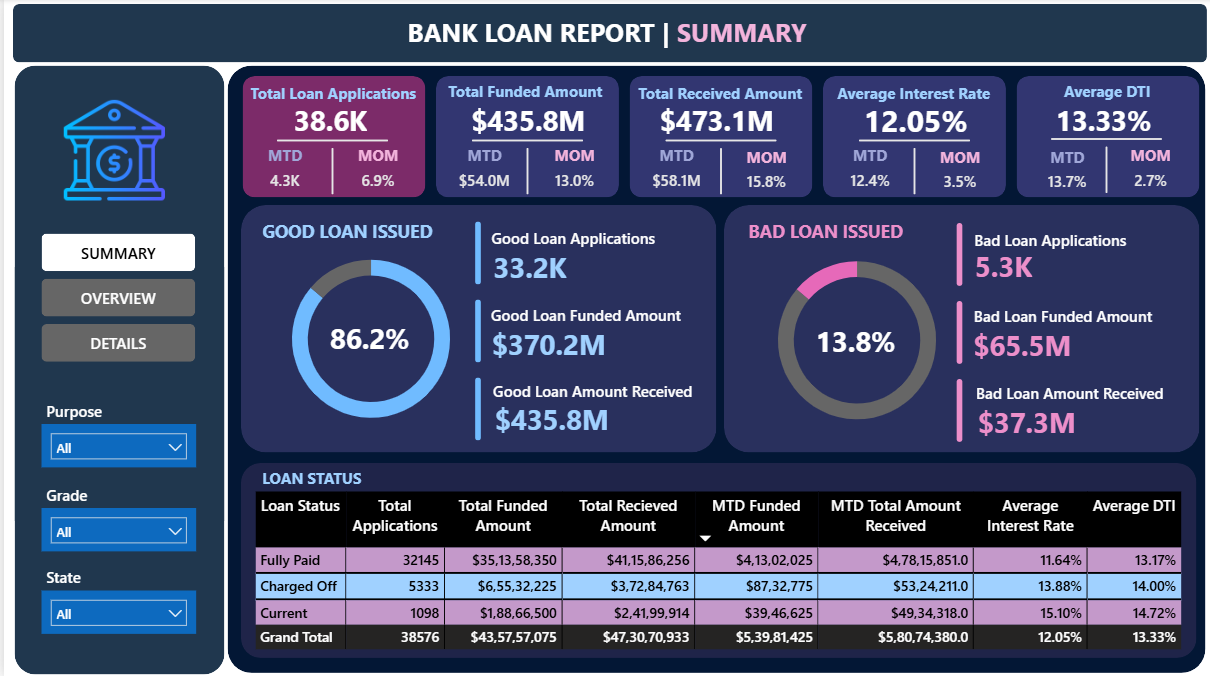

What the dashboard file says about the page in this screenshot:
{"tool":"powerbi","page":{"name":"SUMMARY","canvas":[1280,720],"ordinal":0},"visuals":[{"type":"shape","box":[1110.2,0,117.7,299],"z":0,"group":"g6"},{"type":"shape","box":[289.5,1.6,117.7,299],"z":0,"group":"g2"},{"type":"shape","box":[496.3,1.6,117.7,299],"z":0,"group":"g3"},{"type":"shape","box":[701.5,1.6,117.7,299],"z":0,"group":"g4"},{"type":"shape","box":[906.6,1.6,117.7,299],"z":0,"group":"g5"},{"type":"shape","box":[237,71.6,1037.1,644.2],"z":0},{"type":"shape","box":[11.1,71.6,222.7,645.8],"z":1000},{"type":"shape","box":[1110.2,157.5,117.7,49.3],"z":1000,"group":"g6"},{"type":"shape","box":[289.5,159.1,117.7,49.3],"z":1000,"group":"g2"},{"type":"shape","box":[496.3,159.1,117.7,49.3],"z":1000,"group":"g3"},{"type":"shape","box":[701.5,159.1,117.7,49.3],"z":1000,"group":"g4"},{"type":"shape","box":[906.6,159.1,117.7,49.3],"z":1000,"group":"g5"},{"type":"shape","box":[9.5,6.4,1266.1,62],"z":2000},{"type":"textbox","box":[380.2,12.7,518.5,52.5],"z":3000},{"type":"shape","box":[252.9,82.7,194.1,128.8],"z":4000},{"type":"shape","box":[458.1,82.7,194,128.8],"z":5000},{"type":"shape","box":[663.3,82.7,194,128.8],"z":6000},{"type":"shape","box":[1073.7,82.7,194.1,128.8],"z":7000},{"type":"shape","box":[251.3,220.2,504.2,262.5],"z":8000},{"type":"shape","box":[763.5,220.2,504.2,262.5],"z":9000},{"type":"shape","box":[251.3,493.1,1013.2,206.8],"z":10000},{"type":"cardVisual","fields":{"Data":["public bank_loan_data.Total Applications"]},"box":[278.8,93.8,147.9,68.4],"z":11000,"group":"g1"},{"type":"image","box":[56.5,96.7,122.5,128.8],"z":11000},{"type":"cardVisual","fields":{"Data":["public bank_loan_data.Good Loan Applications"]},"box":[489.9,250.2,147.9,68.4],"z":12000},{"type":"cardVisual","fields":{"Data":["public bank_loan_data.Good Loan %"]},"box":[316.5,324.5,146.3,68.4],"z":13000},{"type":"cardVisual","fields":{"Data":["public bank_loan_data.Total Recieved Amount"]},"box":[666.6,93.8,190.9,68.4],"z":14000},{"type":"cardVisual","fields":{"Data":["public bank_loan_data.Total Funded Amount"]},"box":[460.2,93.8,192.5,68.4],"z":15000},{"type":"cardVisual","fields":{"Data":["DATE TABLE.Average DTI"]},"box":[1086.4,93.8,163.8,68.4],"z":16000},{"type":"textbox","box":[256.1,84.3,189.3,35],"z":17000},{"type":"cardVisual","title":"MTD","fields":{"Data":["public bank_loan_data.MTD Loan Applications"]},"box":[269.3,155.8,58.9,50.9],"z":17000,"group":"g1"},{"type":"textbox","box":[458.6,83.2,189.3,35],"z":18000},{"type":"cardVisual","title":"MOM","fields":{"Data":["public bank_loan_data.MOM Loan Applications"]},"box":[363,155.2,68.4,50.9],"z":18000,"group":"g1"},{"type":"textbox","box":[665.4,84.3,189.3,35],"z":19000},{"type":"textbox","box":[1074.7,83.2,189.3,35],"z":20000},{"type":"group","id":"g1","title":"Group 1","box":[269.3,93.8,162.1,112.9],"z":21000},{"type":"cardVisual","title":"MTD","fields":{"Data":["public bank_loan_data.MTD Total Amount Received"]},"box":[671.2,155.9,84.3,50.9],"z":22000},{"type":"cardVisual","title":"MTD","fields":{"Data":["public bank_loan_data.MTD FundedAmount"]},"box":[462.9,155.9,93.8,50.9],"z":23000},{"type":"cardVisual","title":"MTD","fields":{"Data":["public bank_loan_data.MTD Average DTI"]},"box":[1086.4,157.5,82.7,50.9],"z":24000},{"type":"shape","box":[868.5,82.7,194,128.8],"z":25000},{"type":"cardVisual","title":"MOM","fields":{"Data":["public bank_loan_data.MOM Total Received Amount"]},"box":[763.5,157.5,90.7,50.9],"z":26000},{"type":"cardVisual","title":"MOM","fields":{"Data":["public bank_loan_data.MOM Total Funded Amount"]},"box":[571,155.9,68.4,50.9],"z":27000},{"type":"cardVisual","title":"MOM","fields":{"Data":["public bank_loan_data.MOM Average DTI"]},"box":[1181.8,155.9,68.4,50.9],"z":28000},{"type":"cardVisual","fields":{"Data":["public bank_loan_data.Average Interest Rate"]},"box":[882.8,93.8,176.6,68.4],"z":29000},{"type":"textbox","box":[870.5,83.7,189.3,35],"z":30000},{"type":"cardVisual","title":"MTD","fields":{"Data":["public bank_loan_data.MTD Average Interest Rate"]},"box":[876.4,155.3,84.3,50.9],"z":31000},{"type":"cardVisual","title":"MOM","fields":{"Data":["public bank_loan_data.MOM Average Interest Rate"]},"box":[968.6,156.9,90.7,50.9],"z":32000},{"type":"group","id":"g2","title":"Group 2","box":[289.5,1.6,117.7,299],"z":33000},{"type":"group","id":"g3","title":"Group 2","box":[496.3,1.6,117.7,299],"z":34000},{"type":"group","id":"g4","title":"Group 2","box":[701.5,1.6,117.7,299],"z":35000},{"type":"group","id":"g5","title":"Group 2","box":[906.6,1.6,117.7,299],"z":36000},{"type":"group","id":"g6","title":"Group 2","box":[1110.2,0,117.7,299],"z":37000},{"type":"textbox","box":[268.8,229,198.8,35],"z":38000},{"type":"textbox","box":[784.2,229,198.8,35],"z":39000},{"type":"donutChart","fields":{"Category":["public bank_loan_data.GOOD VS BAD LOAN"],"Y":["public bank_loan_data.Total Applications"]},"box":[264,251.3,249.7,219.5],"z":40000},{"type":"shape","box":[353.5,237,299,66.8],"z":41000},{"type":"shape","box":[353.5,319.7,299,66.8],"z":42000},{"type":"shape","box":[353.5,402.4,299,66.8],"z":43000},{"type":"textbox","box":[509,239.1,189.3,35],"z":44000},{"type":"textbox","box":[504.2,320.4,225.9,35],"z":45000},{"type":"textbox","box":[499.5,401.5,249.7,35],"z":46000},{"type":"donutChart","fields":{"Category":["public bank_loan_data.GOOD VS BAD LOAN"],"Y":["public bank_loan_data.Total Applications"]},"box":[779.4,252.9,249.7,219.5],"z":47000},{"type":"cardVisual","fields":{"Data":["public bank_loan_data.Bad Loan %"]},"box":[831.9,327.7,146.3,68.4],"z":48000},{"type":"shape","box":[863,238.5,299,66.8],"z":49000},{"type":"shape","box":[863,321.2,299,66.8],"z":50000},{"type":"shape","box":[863,403.9,299,66.8],"z":51000},{"type":"textbox","box":[1014.8,240.8,189.3,35],"z":52000},{"type":"textbox","box":[1010,322,225.9,35],"z":53000},{"type":"textbox","box":[1005.3,403.1,249.7,35],"z":54000},{"type":"cardVisual","fields":{"Data":["public bank_loan_data.Bad Loan Applications"]},"box":[1000.5,248.1,144.7,68.4],"z":55000},{"type":"cardVisual","fields":{"Data":["public bank_loan_data.Good Loan Funded Amount"]},"box":[488.3,330.8,182.9,68.4],"z":56000},{"type":"cardVisual","fields":{"Data":["public bank_loan_data.Good Loan Amount Received"]},"box":[491.5,410.4,179.7,68.4],"z":57000},{"type":"cardVisual","fields":{"Data":["public bank_loan_data.Bad Loan Funded Amount"]},"box":[998.9,332.4,163.8,68.4],"z":58000},{"type":"cardVisual","fields":{"Data":["public bank_loan_data.Bad Loan Amount Received"]},"box":[1003.7,413.6,167,68.4],"z":59000},{"type":"tableEx","fields":{"Values":["public bank_loan_data.loan_status","public bank_loan_data.Total Applications","public bank_loan_data.Total Funded Amount","public bank_loan_data.Total Recieved Amount","public bank_loan_data.MTD FundedAmount","public bank_loan_data.MTD Total Amount Received","public bank_loan_data.Average Interest Rate","DATE TABLE.Average DTI"]},"box":[265.6,523.3,986.2,178.1],"z":60000},{"type":"textbox","box":[268.8,493.1,138.4,35],"z":61000},{"type":"slicer","fields":{"Values":["public bank_loan_data.purpose"]},"box":[40.1,452.4,163.8,46.1],"z":62000},{"type":"textbox","box":[40.1,422.2,189.3,35],"z":63000},{"type":"slicer","fields":{"Values":["public bank_loan_data.grade"]},"box":[40.1,541.5,163.8,46.1],"z":64000},{"type":"textbox","box":[40.1,511.3,189.3,35],"z":65000},{"type":"slicer","fields":{"Values":["public bank_loan_data.address"]},"box":[40.5,628.2,163.8,46.1],"z":66000},{"type":"textbox","box":[40.5,598,189.3,35],"z":67000},{"type":"pageNavigator","box":[39.8,249.7,163.8,138.4],"z":67001}]}

Visuals, with their boxes in screenshot pixels (x1, y1, x2, y2), scaled from the page's 1280x720 canvas onto the 1210x676 screenshot:
shape: {"left": 1049, "top": 0, "right": 1161, "bottom": 281}
shape: {"left": 274, "top": 2, "right": 385, "bottom": 282}
shape: {"left": 469, "top": 2, "right": 580, "bottom": 282}
shape: {"left": 663, "top": 2, "right": 774, "bottom": 282}
shape: {"left": 857, "top": 2, "right": 968, "bottom": 282}
shape: {"left": 224, "top": 67, "right": 1204, "bottom": 672}
shape: {"left": 10, "top": 67, "right": 221, "bottom": 674}
shape: {"left": 1049, "top": 148, "right": 1161, "bottom": 194}
shape: {"left": 274, "top": 149, "right": 385, "bottom": 196}
shape: {"left": 469, "top": 149, "right": 580, "bottom": 196}
shape: {"left": 663, "top": 149, "right": 774, "bottom": 196}
shape: {"left": 857, "top": 149, "right": 968, "bottom": 196}
shape: {"left": 9, "top": 6, "right": 1206, "bottom": 64}
textbox: {"left": 359, "top": 12, "right": 850, "bottom": 61}
shape: {"left": 239, "top": 78, "right": 423, "bottom": 199}
shape: {"left": 433, "top": 78, "right": 616, "bottom": 199}
shape: {"left": 627, "top": 78, "right": 810, "bottom": 199}
shape: {"left": 1015, "top": 78, "right": 1198, "bottom": 199}
shape: {"left": 238, "top": 207, "right": 714, "bottom": 453}
shape: {"left": 722, "top": 207, "right": 1198, "bottom": 453}
shape: {"left": 238, "top": 463, "right": 1195, "bottom": 657}
cardVisual - public bank_loan_data.Total Applications: {"left": 264, "top": 88, "right": 403, "bottom": 152}
image: {"left": 53, "top": 91, "right": 169, "bottom": 212}
cardVisual - public bank_loan_data.Good Loan Applications: {"left": 463, "top": 235, "right": 603, "bottom": 299}
cardVisual - public bank_loan_data.Good Loan %: {"left": 299, "top": 305, "right": 437, "bottom": 369}
cardVisual - public bank_loan_data.Total Recieved Amount: {"left": 630, "top": 88, "right": 811, "bottom": 152}
cardVisual - public bank_loan_data.Total Funded Amount: {"left": 435, "top": 88, "right": 617, "bottom": 152}
cardVisual - DATE TABLE.Average DTI: {"left": 1027, "top": 88, "right": 1182, "bottom": 152}
textbox: {"left": 242, "top": 79, "right": 421, "bottom": 112}
"MTD" cardVisual: {"left": 255, "top": 146, "right": 310, "bottom": 194}
textbox: {"left": 434, "top": 78, "right": 612, "bottom": 111}
"MOM" cardVisual: {"left": 343, "top": 146, "right": 408, "bottom": 194}
textbox: {"left": 629, "top": 79, "right": 808, "bottom": 112}
textbox: {"left": 1016, "top": 78, "right": 1195, "bottom": 111}
"Group 1" group: {"left": 255, "top": 88, "right": 408, "bottom": 194}
"MTD" cardVisual: {"left": 634, "top": 146, "right": 714, "bottom": 194}
"MTD" cardVisual: {"left": 438, "top": 146, "right": 526, "bottom": 194}
"MTD" cardVisual: {"left": 1027, "top": 148, "right": 1105, "bottom": 196}
shape: {"left": 821, "top": 78, "right": 1004, "bottom": 199}
"MOM" cardVisual: {"left": 722, "top": 148, "right": 807, "bottom": 196}
"MOM" cardVisual: {"left": 540, "top": 146, "right": 604, "bottom": 194}
"MOM" cardVisual: {"left": 1117, "top": 146, "right": 1182, "bottom": 194}
cardVisual - public bank_loan_data.Average Interest Rate: {"left": 835, "top": 88, "right": 1001, "bottom": 152}
textbox: {"left": 823, "top": 79, "right": 1002, "bottom": 111}
"MTD" cardVisual: {"left": 828, "top": 146, "right": 908, "bottom": 194}
"MOM" cardVisual: {"left": 916, "top": 147, "right": 1001, "bottom": 195}
"Group 2" group: {"left": 274, "top": 2, "right": 385, "bottom": 282}
"Group 2" group: {"left": 469, "top": 2, "right": 580, "bottom": 282}
"Group 2" group: {"left": 663, "top": 2, "right": 774, "bottom": 282}
"Group 2" group: {"left": 857, "top": 2, "right": 968, "bottom": 282}
"Group 2" group: {"left": 1049, "top": 0, "right": 1161, "bottom": 281}
textbox: {"left": 254, "top": 215, "right": 442, "bottom": 248}
textbox: {"left": 741, "top": 215, "right": 929, "bottom": 248}
donutChart - public bank_loan_data.GOOD VS BAD LOAN x public bank_loan_data.Total Applications: {"left": 250, "top": 236, "right": 486, "bottom": 442}
shape: {"left": 334, "top": 223, "right": 617, "bottom": 285}
shape: {"left": 334, "top": 300, "right": 617, "bottom": 363}
shape: {"left": 334, "top": 378, "right": 617, "bottom": 441}
textbox: {"left": 481, "top": 224, "right": 660, "bottom": 257}
textbox: {"left": 477, "top": 301, "right": 690, "bottom": 334}
textbox: {"left": 472, "top": 377, "right": 708, "bottom": 410}
donutChart - public bank_loan_data.GOOD VS BAD LOAN x public bank_loan_data.Total Applications: {"left": 737, "top": 237, "right": 973, "bottom": 444}
cardVisual - public bank_loan_data.Bad Loan %: {"left": 786, "top": 308, "right": 925, "bottom": 372}
shape: {"left": 816, "top": 224, "right": 1098, "bottom": 287}
shape: {"left": 816, "top": 302, "right": 1098, "bottom": 364}
shape: {"left": 816, "top": 379, "right": 1098, "bottom": 442}
textbox: {"left": 959, "top": 226, "right": 1138, "bottom": 259}
textbox: {"left": 955, "top": 302, "right": 1168, "bottom": 335}
textbox: {"left": 950, "top": 378, "right": 1186, "bottom": 411}
cardVisual - public bank_loan_data.Bad Loan Applications: {"left": 946, "top": 233, "right": 1083, "bottom": 297}
cardVisual - public bank_loan_data.Good Loan Funded Amount: {"left": 462, "top": 311, "right": 634, "bottom": 375}
cardVisual - public bank_loan_data.Good Loan Amount Received: {"left": 465, "top": 385, "right": 634, "bottom": 450}
cardVisual - public bank_loan_data.Bad Loan Funded Amount: {"left": 944, "top": 312, "right": 1099, "bottom": 376}
cardVisual - public bank_loan_data.Bad Loan Amount Received: {"left": 949, "top": 388, "right": 1107, "bottom": 453}
tableEx - public bank_loan_data.loan_status x public bank_loan_data.Total Applications: {"left": 251, "top": 491, "right": 1183, "bottom": 659}
textbox: {"left": 254, "top": 463, "right": 385, "bottom": 496}
slicer - public bank_loan_data.purpose: {"left": 38, "top": 425, "right": 193, "bottom": 468}
textbox: {"left": 38, "top": 396, "right": 217, "bottom": 429}
slicer - public bank_loan_data.grade: {"left": 38, "top": 508, "right": 193, "bottom": 552}
textbox: {"left": 38, "top": 480, "right": 217, "bottom": 513}
slicer - public bank_loan_data.address: {"left": 38, "top": 590, "right": 193, "bottom": 633}
textbox: {"left": 38, "top": 561, "right": 217, "bottom": 594}
pageNavigator: {"left": 38, "top": 234, "right": 192, "bottom": 364}
